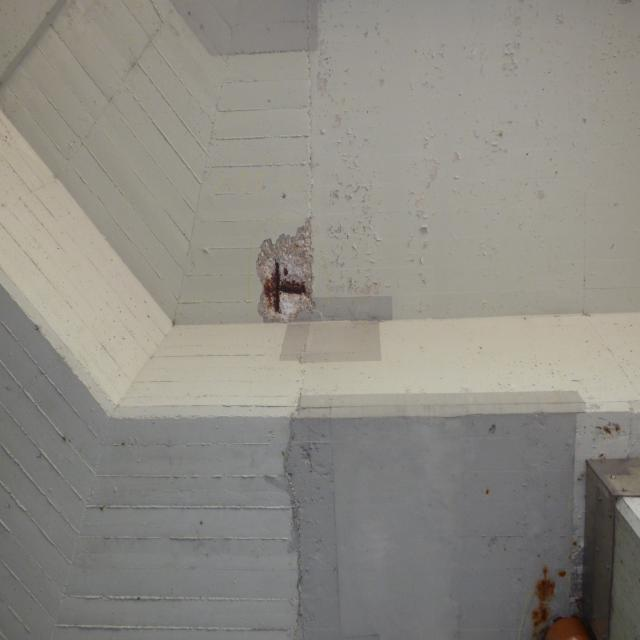corrosion: (506, 538, 600, 640), (251, 238, 330, 324), (593, 416, 631, 464), (481, 485, 499, 504)
